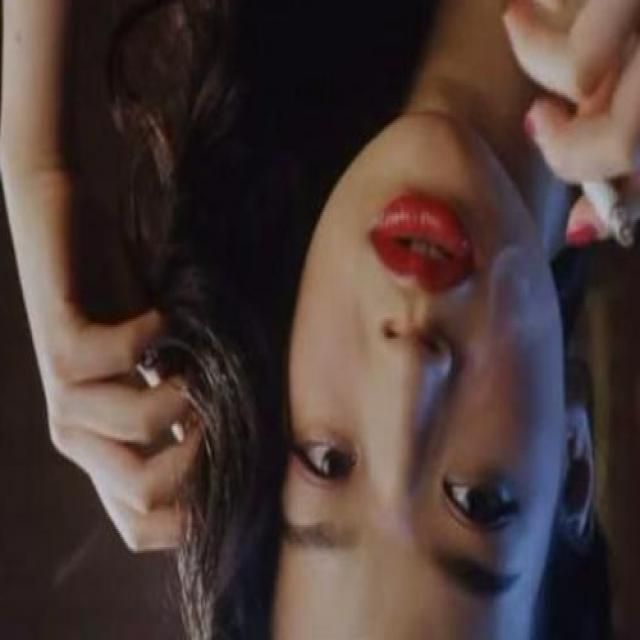cigarette: (495, 71, 640, 262)
